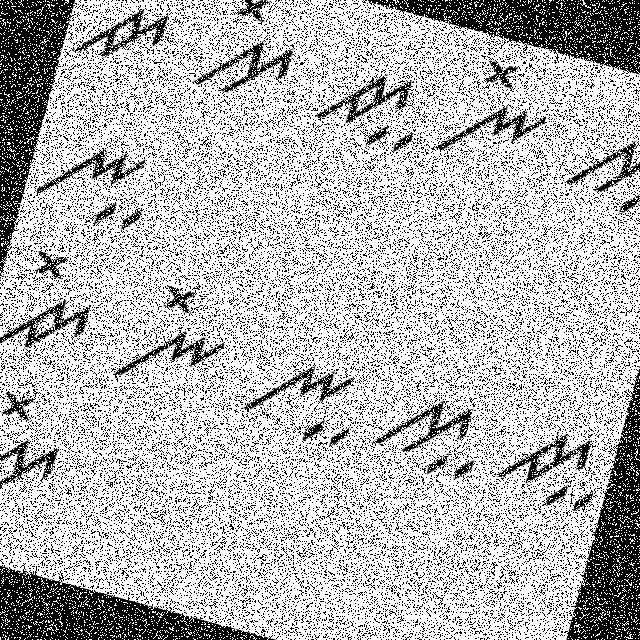jah: (486, 404, 614, 526), (307, 42, 436, 162)
jo: (0, 238, 115, 372), (66, 0, 185, 79)
nyah: (224, 335, 370, 459), (26, 119, 166, 242)
nyo: (106, 265, 240, 403), (429, 47, 562, 180)
sah: (367, 381, 490, 489), (553, 108, 639, 234)
so: (191, 0, 309, 113), (0, 379, 77, 515)
